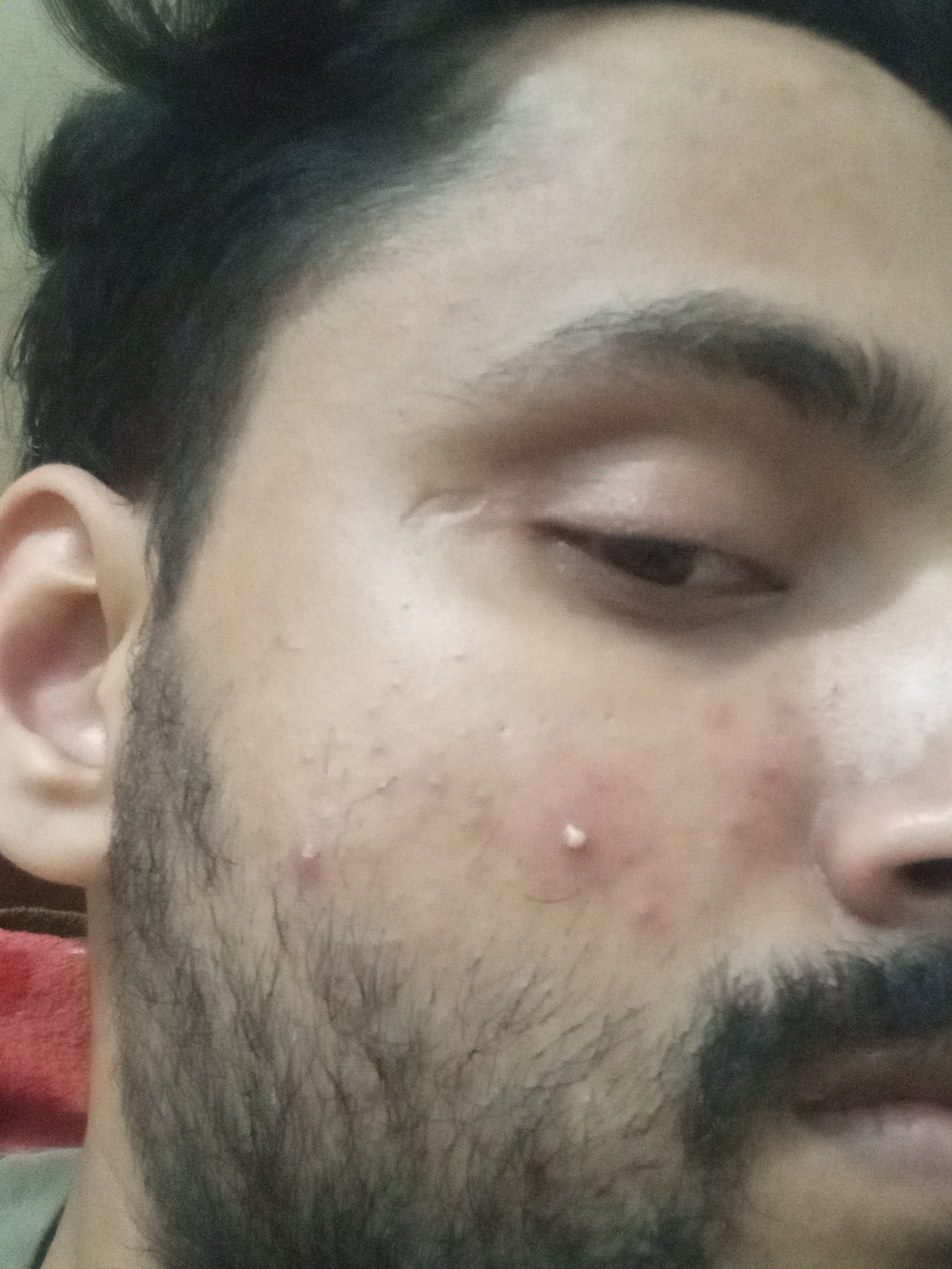closed_comedone: (386, 305, 418, 343), (437, 286, 464, 316)
macrocomedone: (295, 749, 331, 781), (415, 765, 449, 795)
papule: (284, 833, 334, 884)
pustule: (546, 816, 623, 869)
